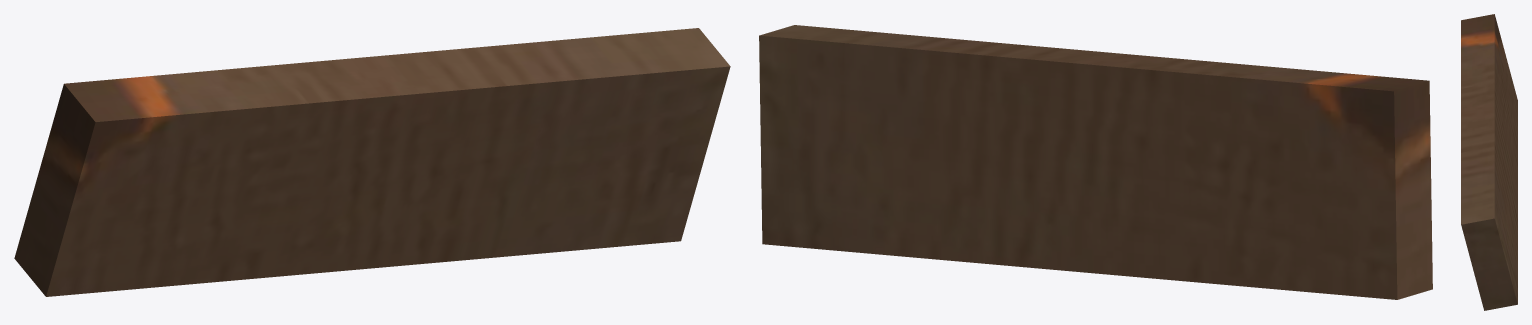
File: fan_center__blade_8.glb
3 renders of one model, left to right at view 1: azimuth 30°, elevation 25°; view 2: azimuth 150°, elevation 25°; view 3: azimuth 270°, elevation 25°, orthographic. The views are drawn at different scales.
Parts seen in each view (by area): view 1: geometry_0; view 2: geometry_0; view 3: geometry_0.
Part boxes in pixels (x1,y1,x2,y2): geometry_0: [14, 28, 730, 296]; geometry_0: [759, 25, 1432, 299]; geometry_0: [1461, 14, 1517, 310].
Size of the model in its own units: 0.0289 by 0.0124 by 0.00428.
1 material, 1 textured.
